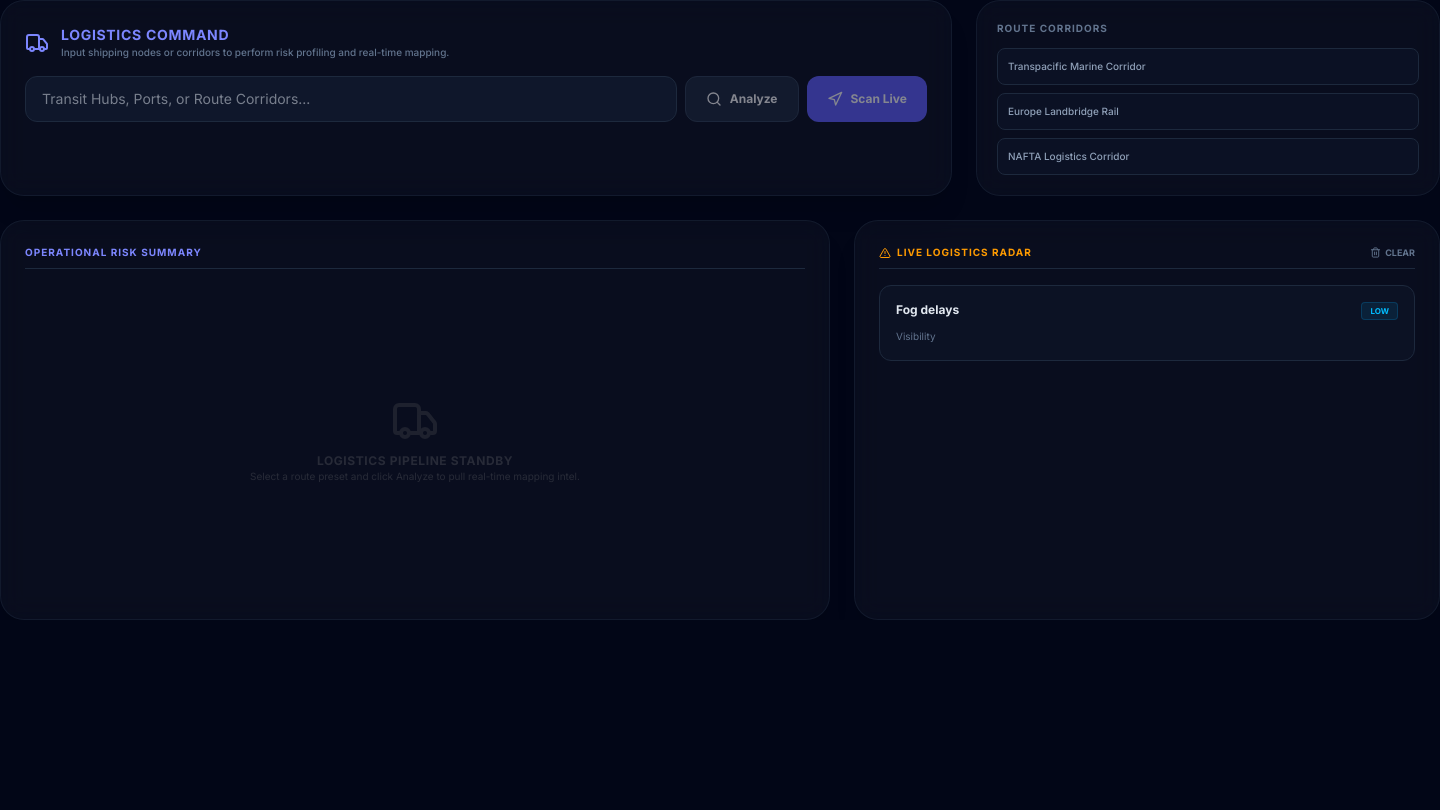
Test: SupplyChainConsole Component › clears live alerts when confirmed
Check: the heading "Fog delays" is shown, box [896,302,959,317]
Click the button titled "Clear alerts".
click(1393, 253)  # box [1370,246,1415,259]
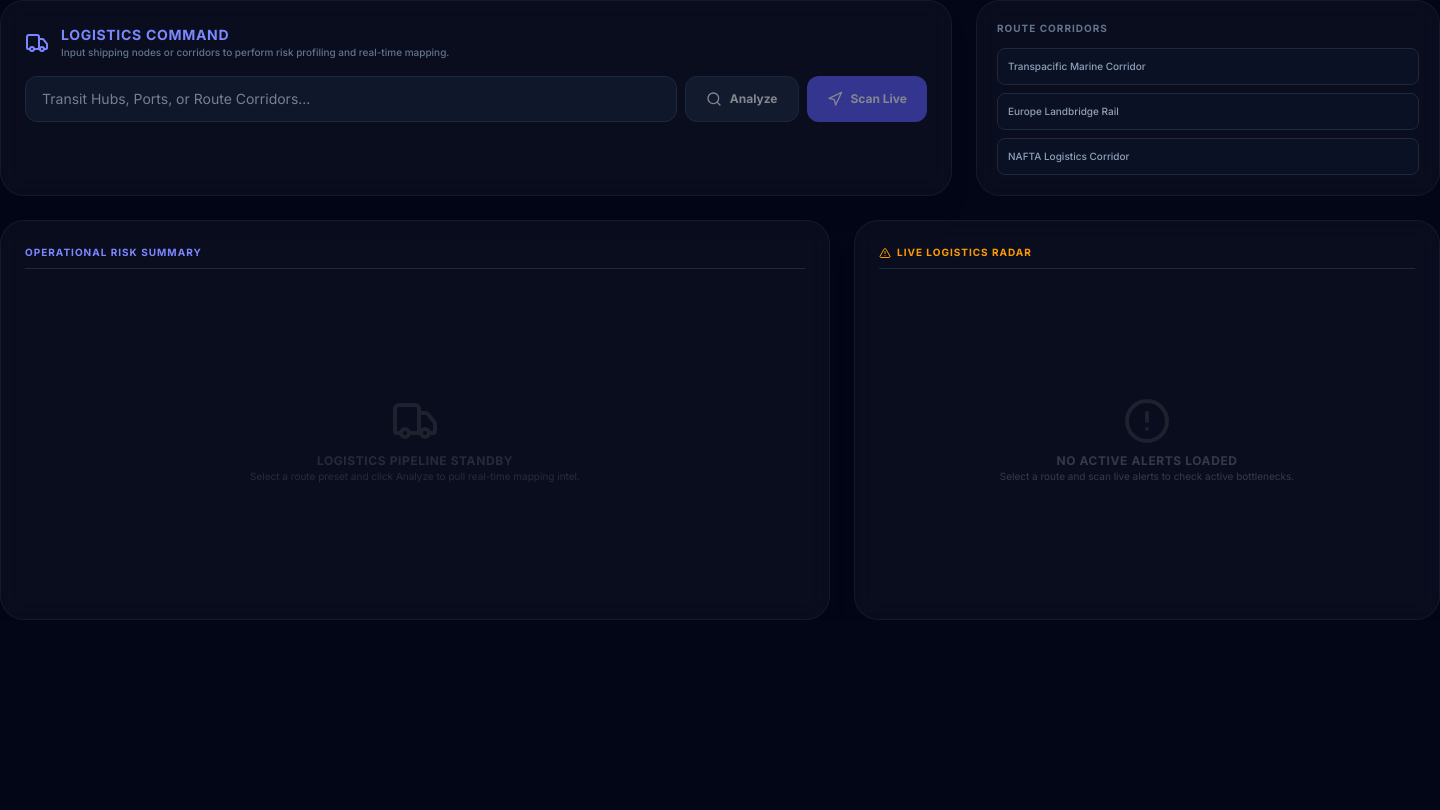
Check: the text "No active alerts loaded" is shown, box [1056,452,1238,468]
